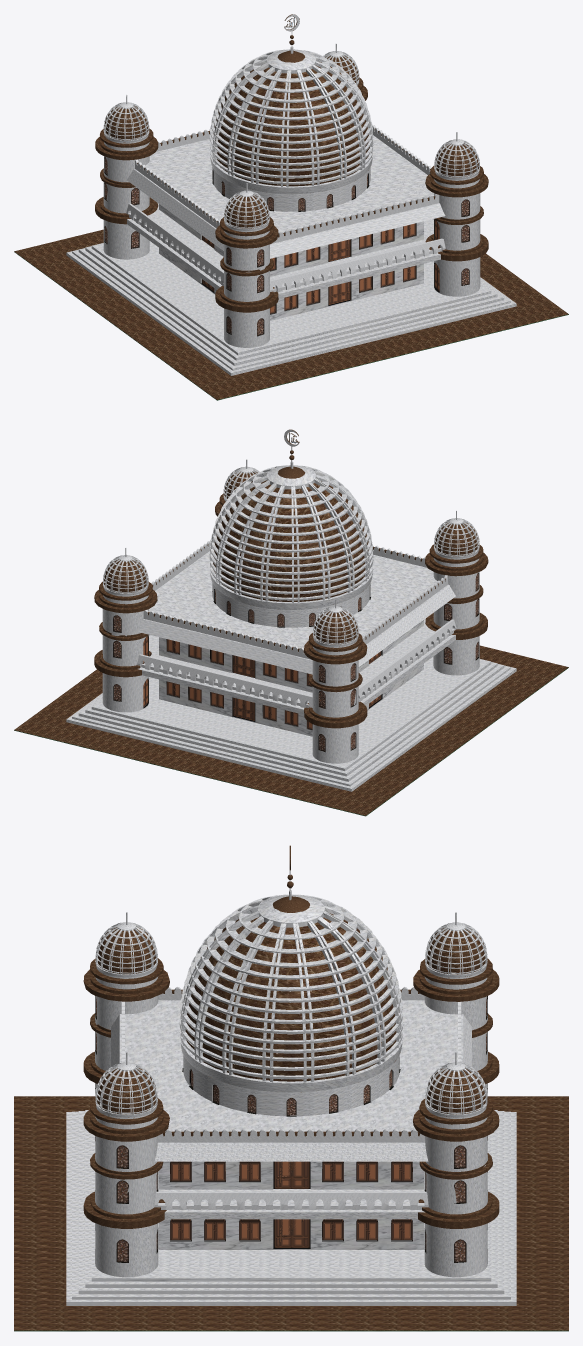
Rendered from q_masjid.glb.
The picture shows the model from 3 angles, top to bottom: view 1: azimuth 30°, elevation 25°; view 2: azimuth 150°, elevation 25°; view 3: azimuth 270°, elevation 25°; orthographic projection. The views are drawn at different scales.
Visible parts, largest first — view 1: Object_8, Object_27, Object_5, Object_33, Object_2, Object_4; view 2: Object_8, Object_27, Object_33, Object_5, Object_2, Object_4; view 3: Object_8, Object_27, Object_5, Object_33, Object_2, Object_4.
Boxes of the visible parts, bbox=[...] form: Object_8: bbox=[66, 14, 516, 375]; Object_27: bbox=[14, 14, 568, 399]; Object_5: bbox=[163, 207, 416, 314]; Object_33: bbox=[104, 157, 469, 336]; Object_2: bbox=[200, 235, 351, 305]; Object_4: bbox=[14, 251, 568, 400]; Object_8: bbox=[66, 430, 516, 791]; Object_27: bbox=[14, 429, 568, 815]; Object_33: bbox=[113, 572, 479, 752]; Object_5: bbox=[166, 623, 419, 730]; Object_2: bbox=[231, 650, 382, 721]; Object_4: bbox=[14, 667, 568, 816]; Object_8: bbox=[14, 870, 568, 1331]; Object_27: bbox=[14, 845, 568, 1330]; Object_5: bbox=[170, 1161, 412, 1241]; Object_33: bbox=[95, 996, 487, 1262]; Object_2: bbox=[273, 1161, 310, 1248]; Object_4: bbox=[14, 1330, 568, 1331].
Size of the model in its own units: 32.16 by 23.5 by 32.16.
14 materials, 11 textured.
